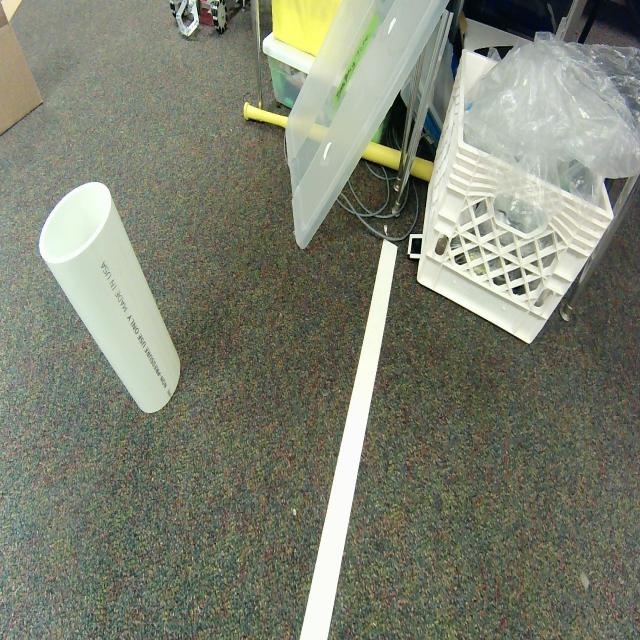coral: (38, 182, 180, 412)
